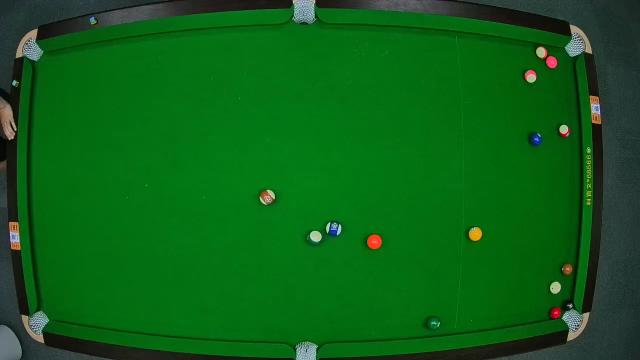bag1: (19, 38, 45, 62)
bag2: (291, 0, 317, 26)
bag3: (566, 29, 588, 57)
bag4: (22, 309, 50, 341)
bag5: (294, 340, 320, 360)
bag6: (563, 308, 585, 332)
ball0: (548, 280, 564, 296)
ball1: (466, 226, 482, 242)
ball10: (326, 220, 342, 236)
ball11: (556, 124, 570, 138)
ball12: (524, 70, 538, 82)
ball13: (536, 47, 548, 59)
ball14: (306, 230, 322, 248)
ball15: (259, 189, 275, 205)
ball2: (528, 132, 542, 146)
ball3: (546, 306, 562, 320)
ball4: (546, 56, 558, 68)
ball5: (366, 236, 382, 251)
ball6: (426, 316, 442, 332)
ball7: (560, 262, 572, 278)
ball8: (562, 300, 574, 312)
